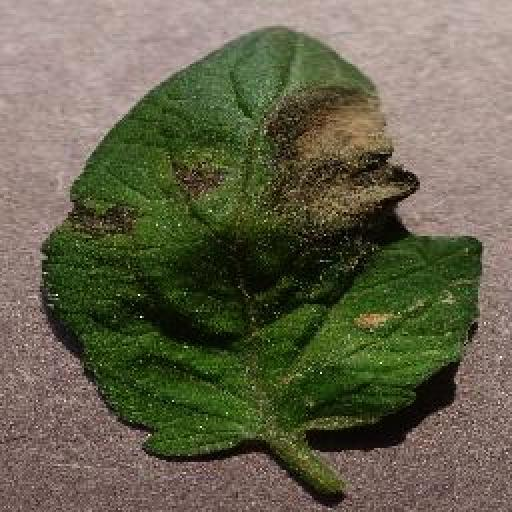disease_tomato: (44, 23, 484, 461)
